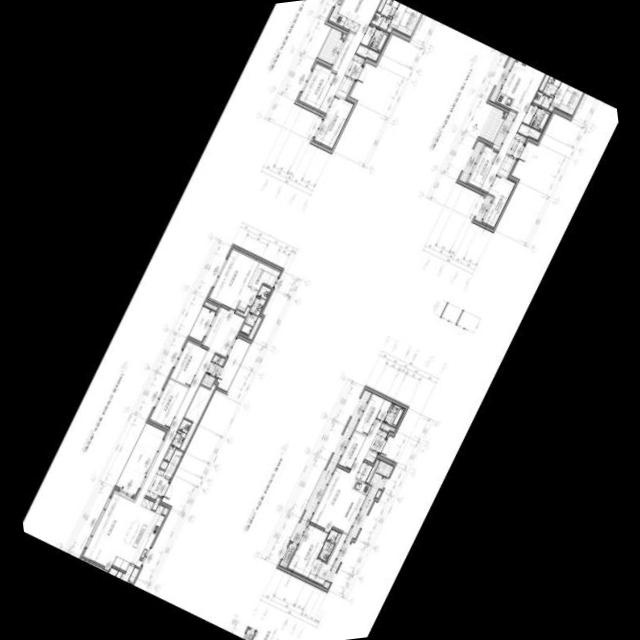background: (22, 0, 618, 640)
space_balconi: (290, 389, 369, 543), (322, 460, 392, 588), (115, 422, 164, 494), (215, 337, 249, 390), (457, 140, 483, 182), (188, 306, 214, 341), (316, 27, 341, 63), (478, 106, 503, 142), (199, 354, 224, 387), (492, 113, 513, 146), (473, 195, 490, 221)
space_bedroom: (207, 248, 258, 311), (286, 523, 327, 577), (312, 95, 352, 149), (148, 378, 187, 428), (296, 62, 335, 110), (480, 174, 514, 228), (168, 340, 205, 386), (465, 145, 496, 189), (353, 392, 383, 435), (336, 430, 364, 469)
space_dressroom: (306, 532, 345, 584), (247, 262, 279, 290), (556, 85, 582, 115), (395, 6, 420, 37)
space_front: (364, 429, 386, 462), (145, 468, 168, 499), (505, 132, 525, 158), (343, 54, 363, 79)
space_kitchen: (111, 498, 163, 571), (331, 478, 369, 533), (494, 61, 535, 111), (327, 0, 370, 32)
space_living_room: (81, 306, 243, 568), (479, 63, 543, 193), (309, 419, 380, 530), (317, 0, 379, 114)
space_other: (178, 384, 214, 450), (330, 31, 354, 71), (162, 448, 181, 478), (325, 532, 340, 562), (496, 155, 515, 177), (354, 44, 378, 61), (335, 76, 353, 98), (516, 123, 539, 140), (355, 461, 371, 481), (359, 24, 374, 45), (521, 103, 536, 124), (375, 399, 390, 420), (365, 459, 378, 482), (247, 317, 260, 338), (119, 564, 133, 582), (538, 74, 548, 90), (234, 306, 249, 316), (127, 567, 137, 582), (379, 422, 394, 431), (150, 496, 159, 510), (202, 301, 216, 310), (158, 460, 167, 469), (374, 489, 380, 498), (115, 570, 121, 578), (161, 507, 167, 514), (385, 27, 391, 32), (547, 106, 553, 111), (341, 33, 344, 37), (503, 112, 506, 116)
space_outdoor_room: (278, 542, 295, 567)
space_toilet: (238, 284, 270, 334), (163, 418, 190, 461), (531, 76, 560, 108), (370, 0, 398, 29), (317, 529, 337, 561), (528, 106, 549, 130), (382, 403, 403, 426), (367, 27, 387, 51)
